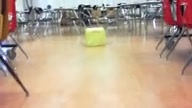cube: (85, 27, 105, 46)
